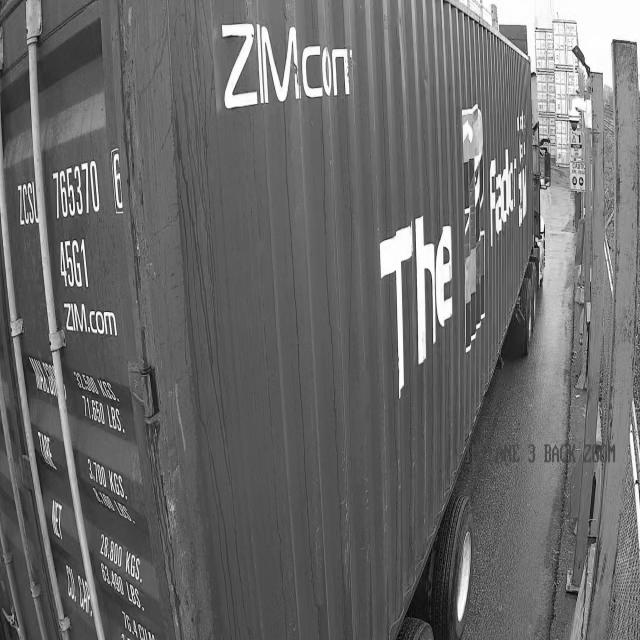container_company_logo: (216, 17, 363, 119)
container_number: (14, 159, 127, 342)
other_container_info: (28, 362, 161, 637)
truck_with_container: (0, 0, 550, 639)
